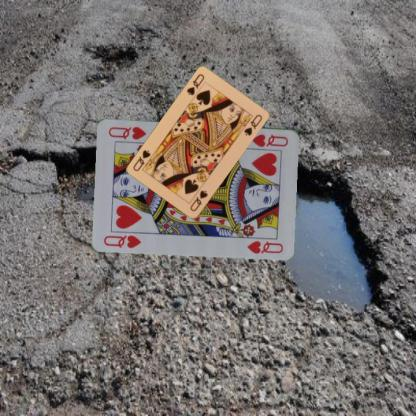Qh: (249, 131, 290, 148), (101, 232, 142, 249)
Qs: (184, 72, 206, 97), (187, 188, 209, 212)
